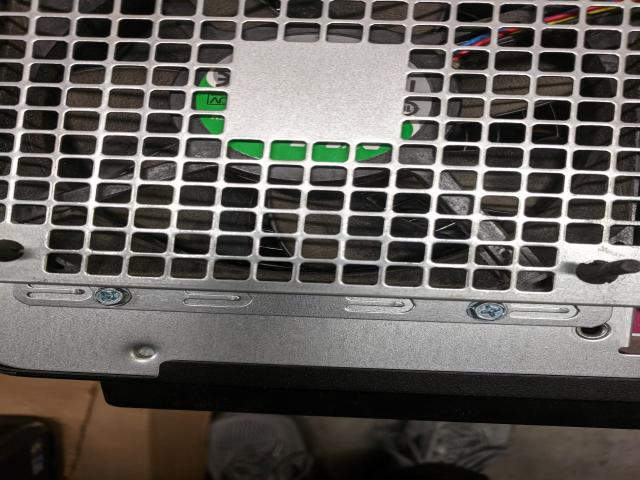CRS: (471, 300, 506, 322), (95, 287, 126, 306)
